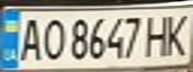4: (106, 13, 127, 60)
6: (87, 15, 109, 61)
7: (121, 14, 145, 58)
8: (66, 15, 90, 61)
A: (15, 15, 45, 63)
H: (142, 11, 175, 57)
K: (160, 10, 193, 57)
O: (39, 15, 66, 62)
